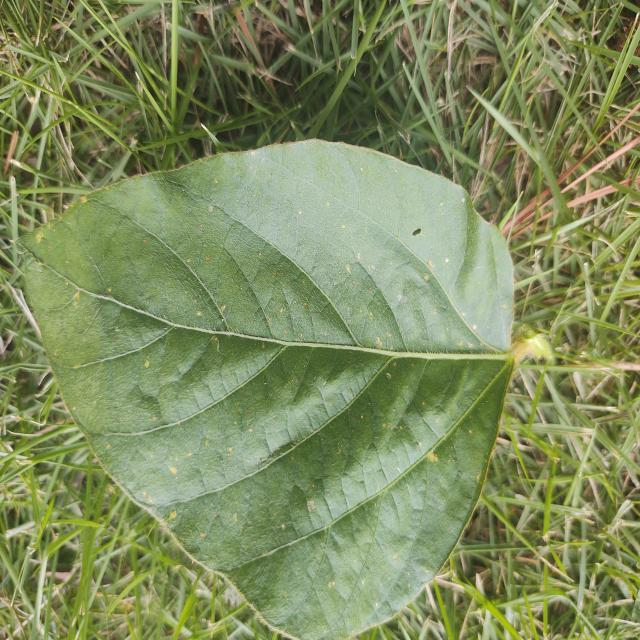Soybean: (20, 140, 517, 640)
downey_mildew: (403, 358, 517, 585), (313, 211, 437, 347), (194, 367, 320, 494), (43, 318, 191, 426), (336, 370, 440, 512), (40, 279, 231, 351), (223, 151, 332, 272), (205, 443, 308, 566), (438, 195, 515, 348), (285, 343, 393, 450), (207, 364, 293, 478), (337, 143, 430, 247), (188, 335, 295, 422), (358, 468, 429, 576), (263, 524, 332, 635), (400, 355, 469, 436), (60, 331, 169, 374), (225, 528, 323, 570), (197, 412, 237, 496), (308, 351, 369, 381)
